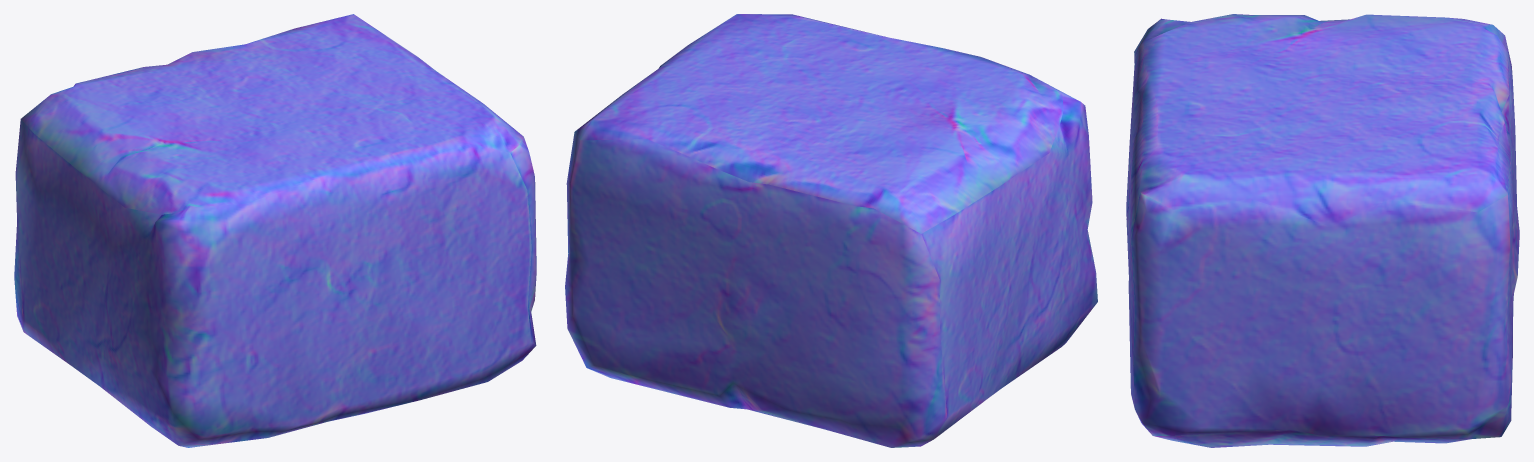
The model's file is pillar_top_01a.fbx.
The picture shows the model from 3 angles, left to right: view 1: azimuth 30°, elevation 25°; view 2: azimuth 150°, elevation 25°; view 3: azimuth 270°, elevation 25°; orthographic projection. The views are drawn at different scales.
Visible parts, largest first — view 1: pillar_top_01a_LOD0; view 2: pillar_top_01a_LOD0; view 3: pillar_top_01a_LOD0.
Part boxes in pixels (left/top/right/bottom): pillar_top_01a_LOD0: left=14, top=14, right=536, bottom=447; pillar_top_01a_LOD0: left=565, top=14, right=1097, bottom=447; pillar_top_01a_LOD0: left=1126, top=14, right=1519, bottom=447.
Size of the model in its own units: 42.54 by 35.79 by 28.
Materials: 1 (1 with a texture image).
